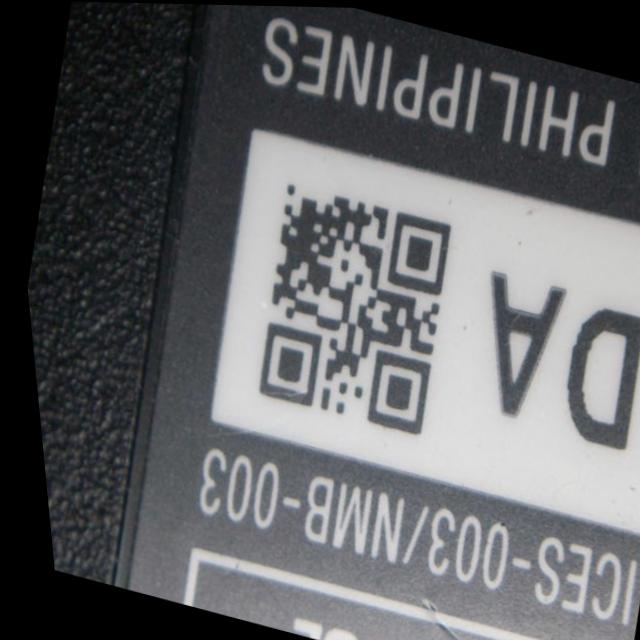qrcode: (232, 181, 464, 435)
